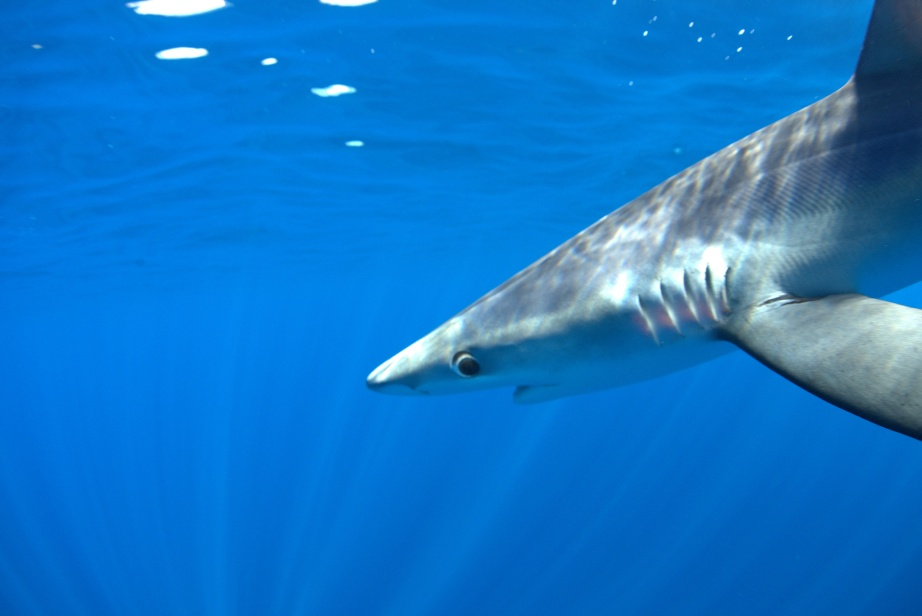Azul: (351, 1, 918, 479)
